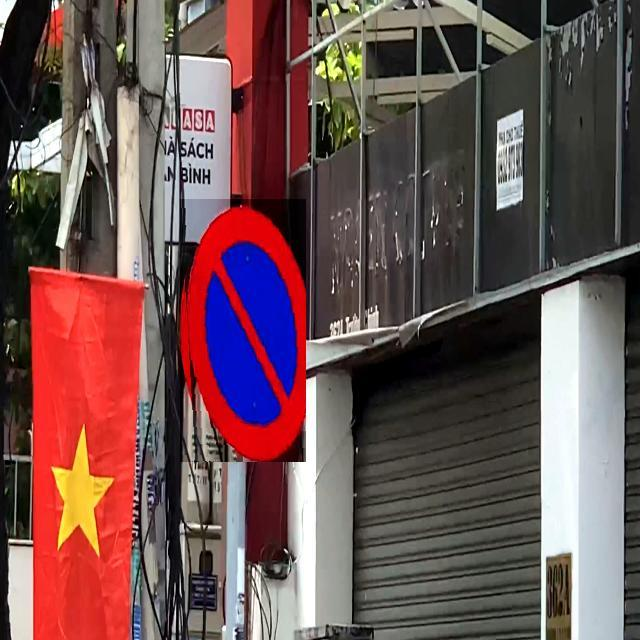P-131a: (180, 199, 306, 462)
